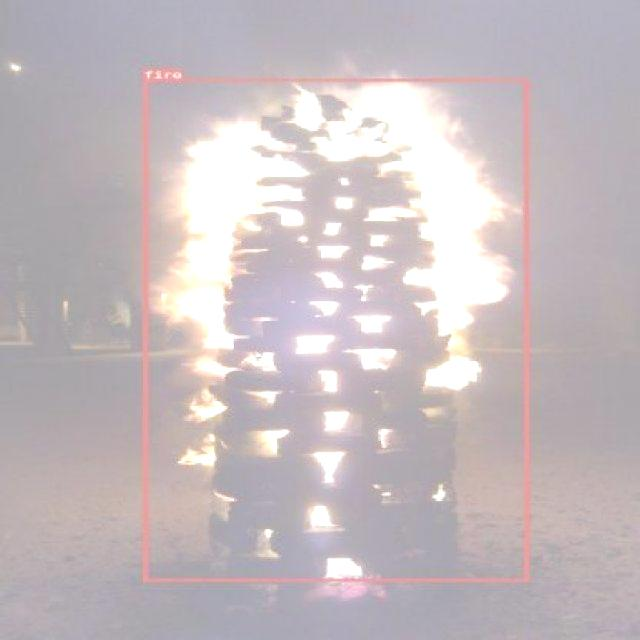fire: (142, 79, 527, 582)
